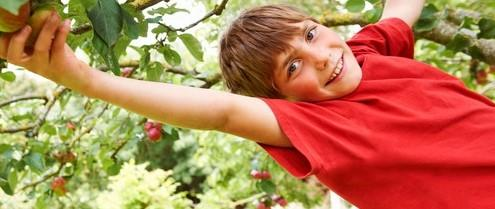Healthy: (236, 13, 375, 113)
